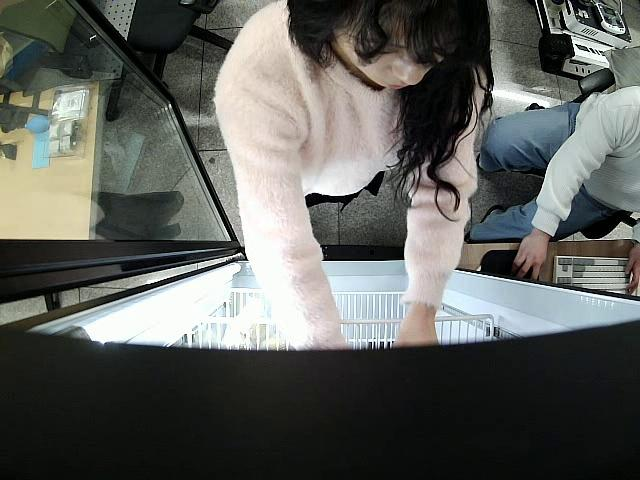00_hand: (515, 237, 547, 279)
